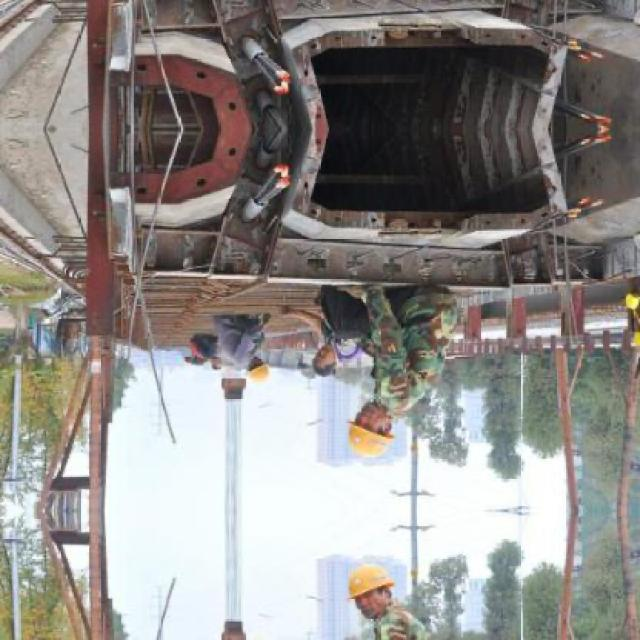con casco: (341, 410, 404, 462), (214, 356, 276, 397), (304, 340, 358, 374)
